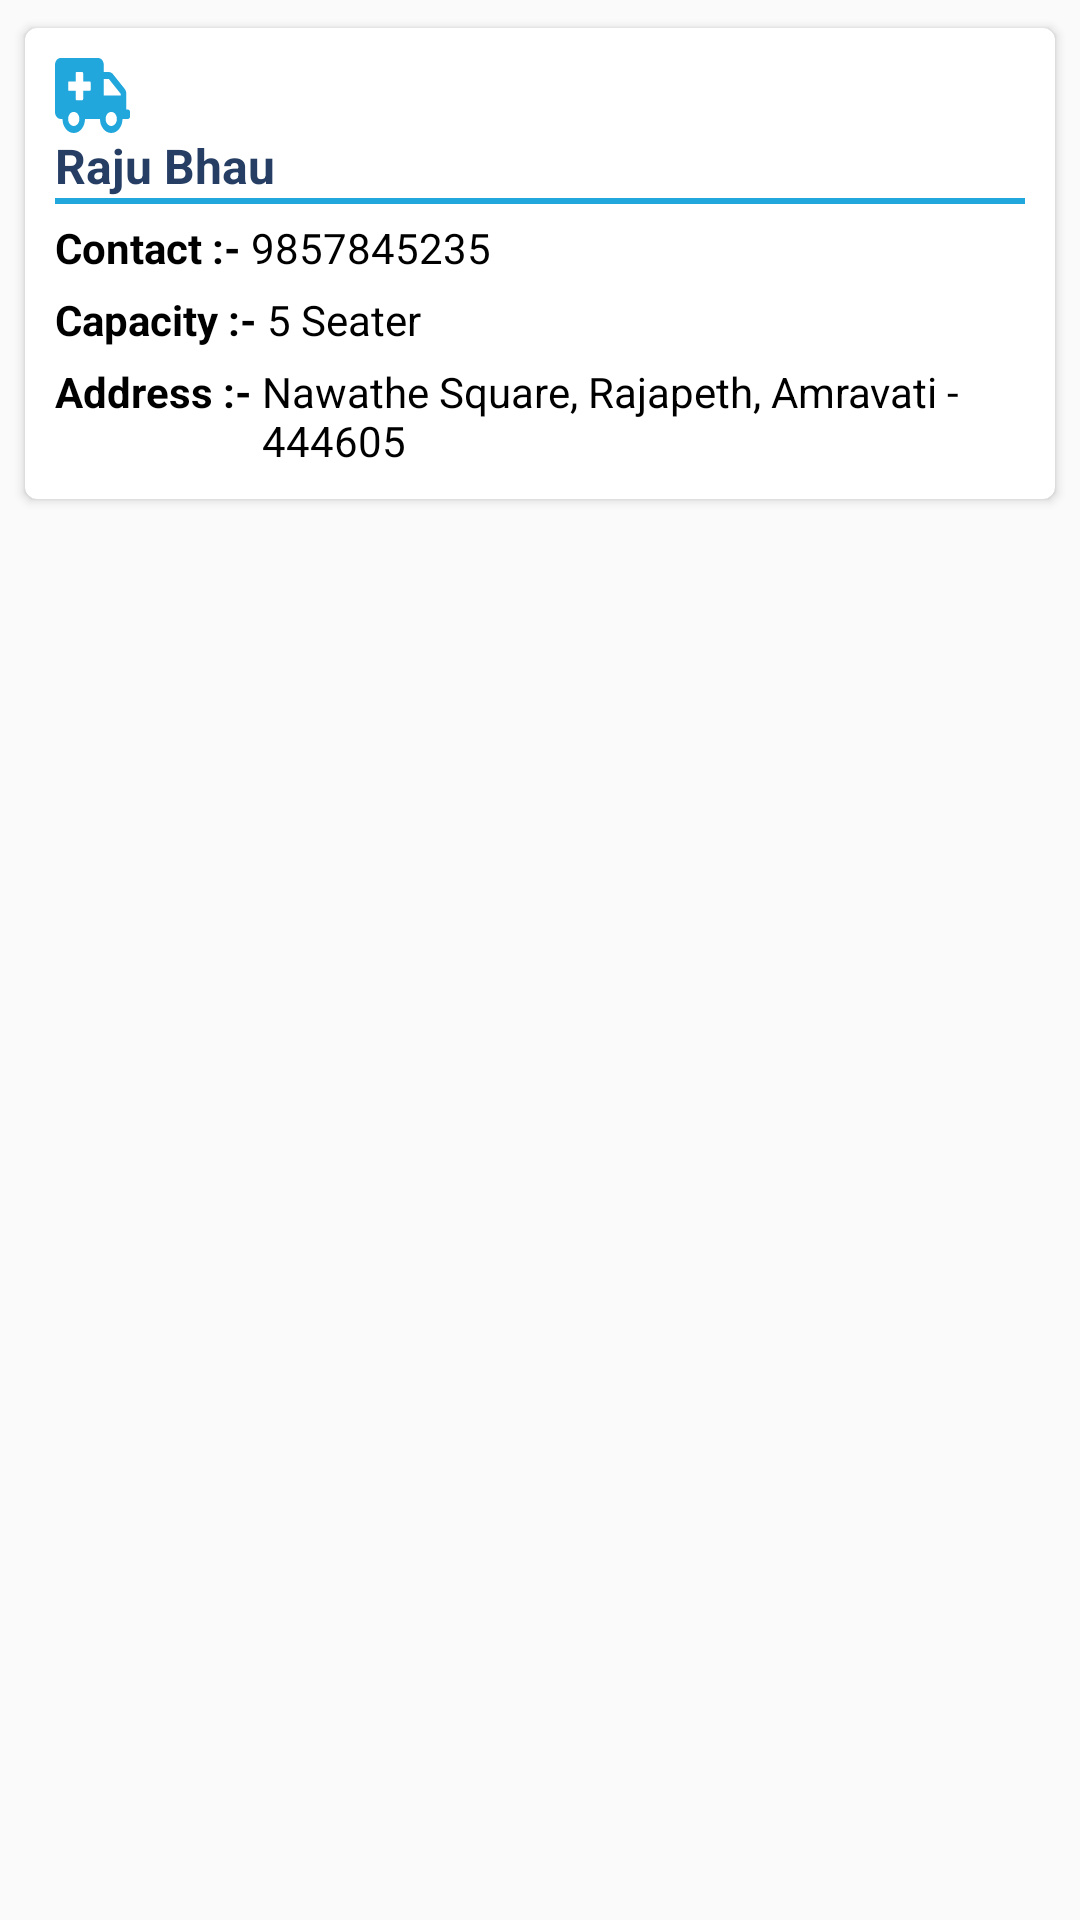

Where icons sit on this 1080px×1920px app screen, as BBox(x1, y1, x2, y2):
ambulance: BBox(55, 58, 130, 133)
